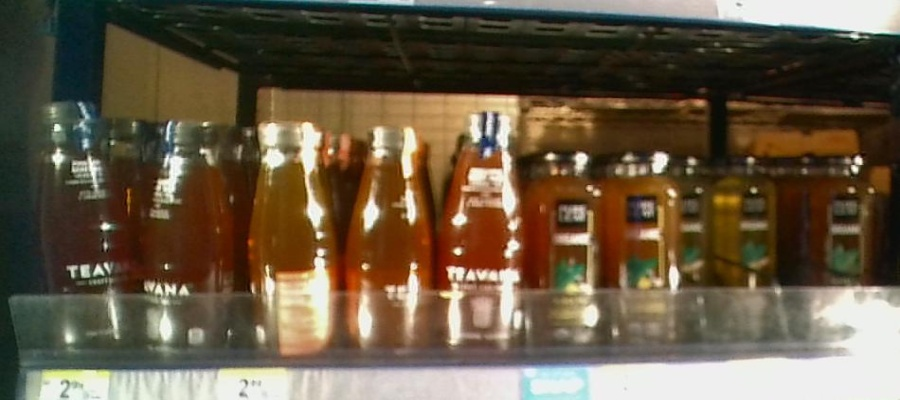bottle: (138, 118, 241, 364), (36, 100, 131, 357), (439, 110, 529, 362), (245, 116, 335, 366), (342, 126, 432, 363), (605, 140, 684, 351), (531, 141, 602, 355), (705, 154, 783, 341), (807, 150, 878, 336)
